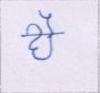ai_matra: (38, 10, 57, 32)
